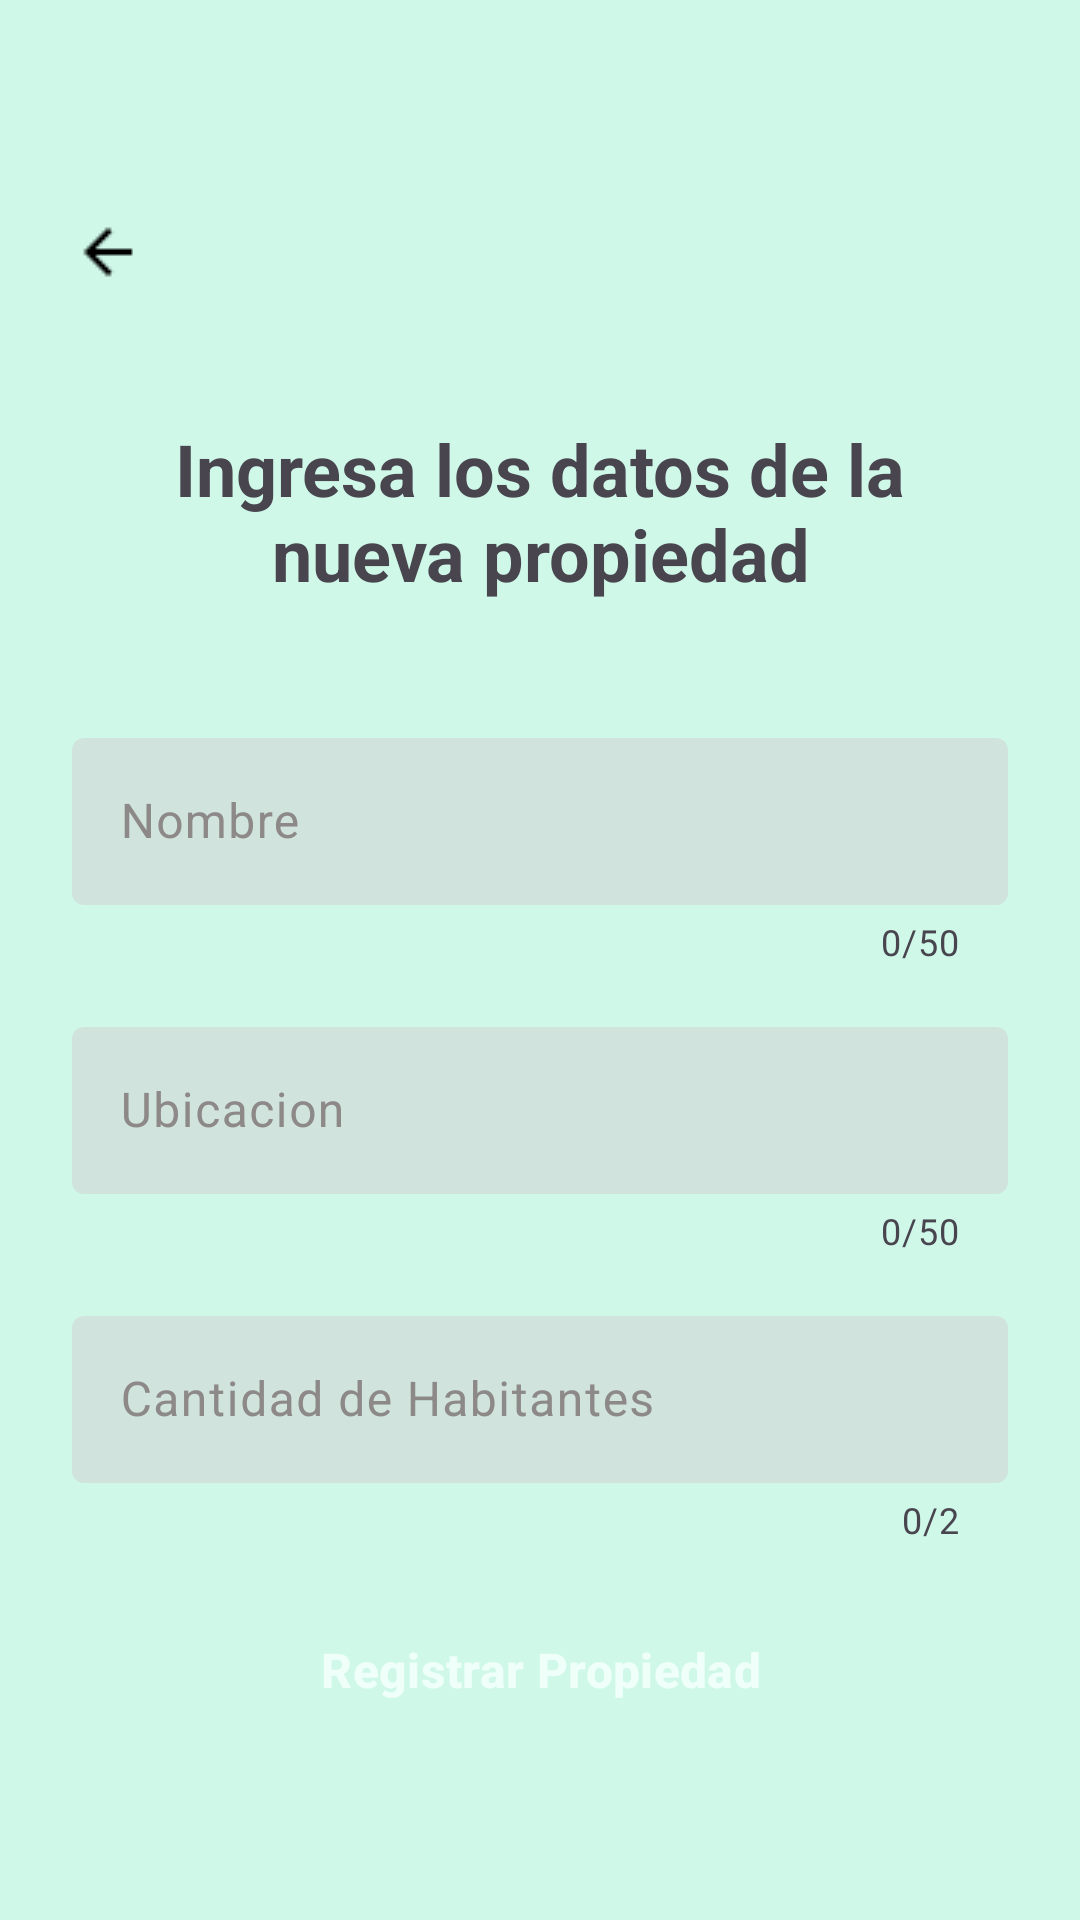

Icons on this 1080x1920 Android screen, each with its box as region(x1, y1, x2, y2):
volver: region(83, 227, 133, 277)
